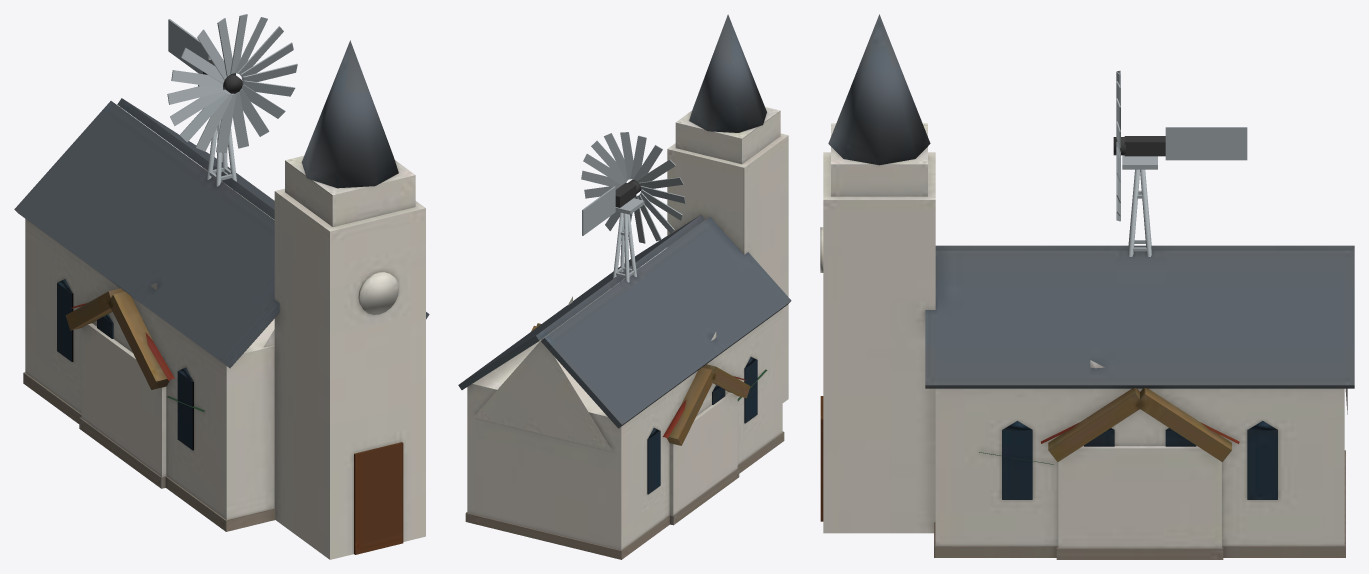
The model's file is dorp.glb.
3 renders of one model, left to right at view 1: azimuth 30°, elevation 25°; view 2: azimuth 150°, elevation 25°; view 3: azimuth 270°, elevation 25°, orthographic. The views are drawn at different scales.
Parts seen in each view (by area): view 1: kerk, huis2, rotor, windpomp, huis1; view 2: kerk, huis2, rotor, windpomp; view 3: kerk, huis2, windpomp, rotor.
Boxes of the visible parts, x1,y1,x2,y2 form: kerk: [14, 40, 429, 559]; huis2: [65, 288, 169, 488]; rotor: [167, 14, 297, 152]; windpomp: [168, 19, 237, 193]; huis1: [71, 283, 205, 411]; kerk: [458, 14, 791, 559]; huis2: [531, 323, 750, 525]; rotor: [581, 132, 685, 243]; windpomp: [582, 182, 644, 287]; kerk: [820, 14, 1354, 557]; huis2: [1048, 387, 1231, 559]; windpomp: [1122, 127, 1247, 256]; rotor: [1113, 70, 1125, 221].
Size of the model in its own units: 5.1 by 10.78 by 10.46.
Materials: 7 (5 with a texture image).
